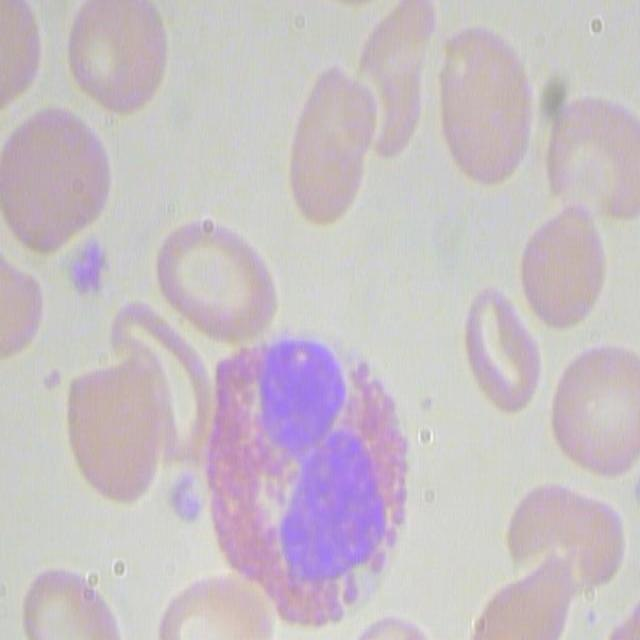RBC: (63, 292, 205, 503), (434, 21, 541, 186), (1, 109, 113, 259), (152, 225, 278, 349), (286, 68, 378, 224), (544, 89, 640, 228), (63, 0, 171, 118), (549, 341, 640, 478), (514, 204, 608, 331), (511, 489, 624, 586), (366, 0, 432, 157), (464, 292, 544, 417), (153, 568, 274, 640), (470, 560, 579, 637), (17, 562, 123, 638), (0, 1, 44, 110), (0, 247, 41, 361)
WBC: (211, 336, 404, 626)
platelets: (66, 235, 114, 302), (166, 470, 210, 530)
